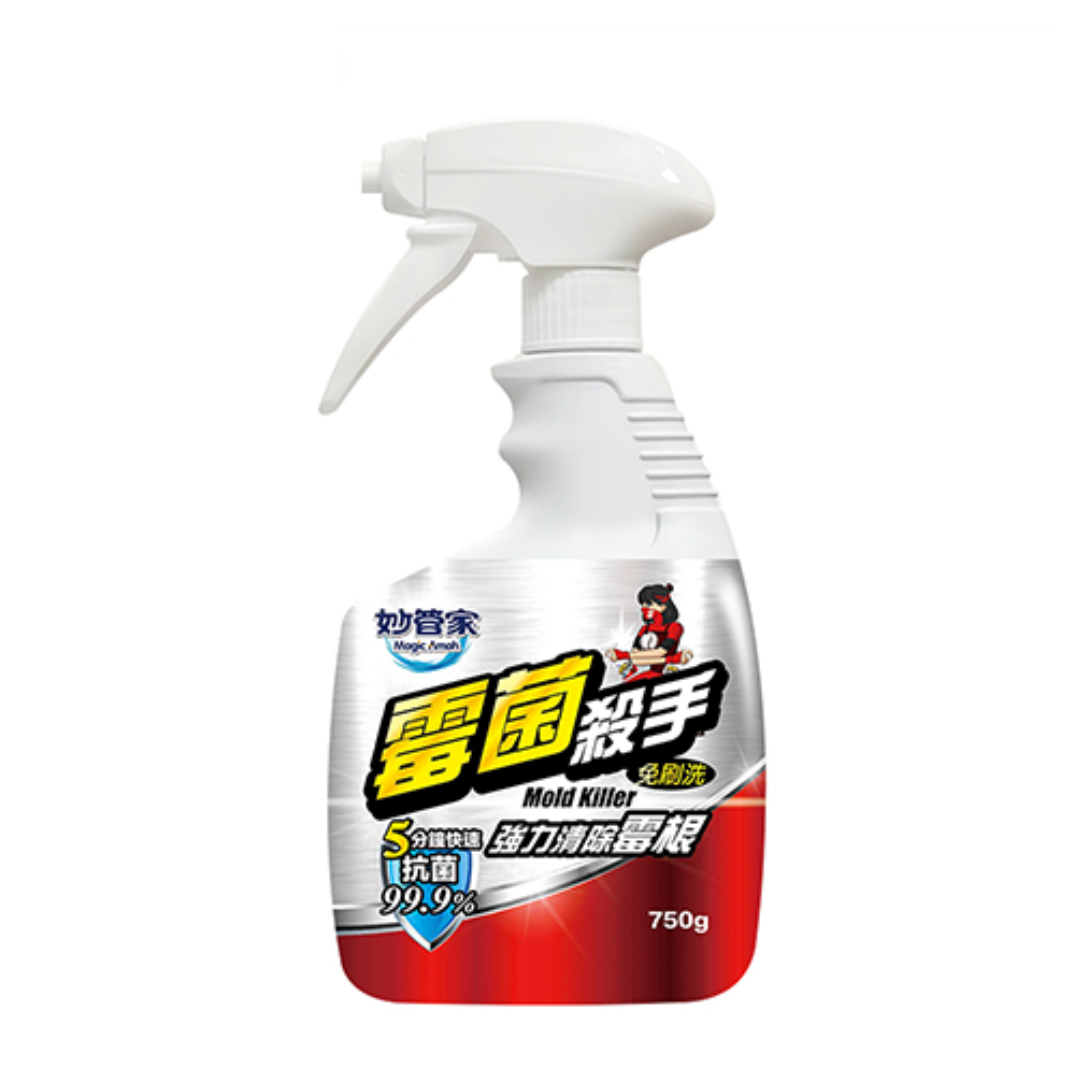cleaner: (310, 114, 770, 1010)
